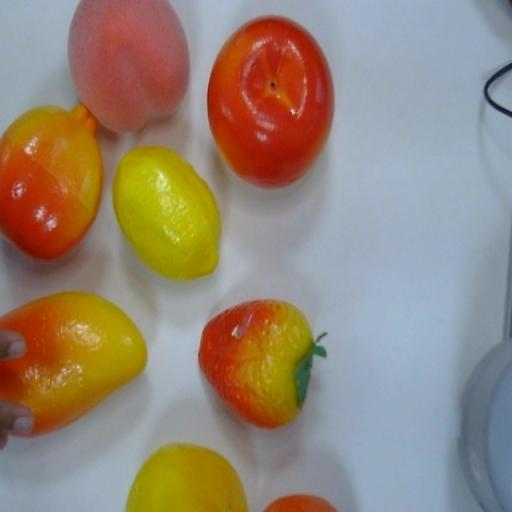Ripe: (200, 11, 339, 207), (191, 288, 346, 421), (19, 289, 161, 433), (0, 79, 105, 262), (106, 144, 231, 290), (65, 0, 194, 136), (122, 433, 254, 512), (262, 483, 345, 512)
